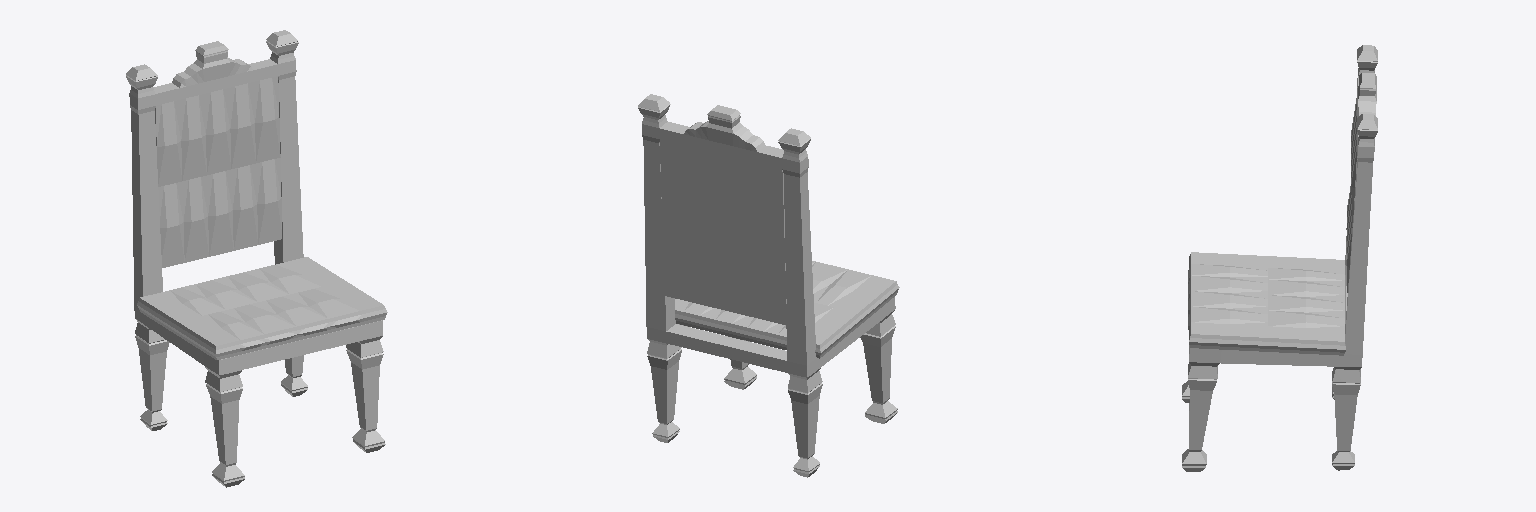
Rendered from trone.obj.
The picture shows the model from 3 angles: view 1: azimuth 30°, elevation 25°; view 2: azimuth 150°, elevation 25°; view 3: azimuth 270°, elevation 25°; orthographic projection.
Visible parts, largest first — view 1: Cube.001_Cube.005, Plane_Plane.001, Cube_Cube.003; view 2: Cube.001_Cube.005, Cube_Cube.003, Plane_Plane.001; view 3: Plane_Plane.001, Cube.001_Cube.005, Cube_Cube.003.
Part boxes in pixels (x1,y1,x2,y2): Cube.001_Cube.005: (153,30,385,452); Plane_Plane.001: (137,257,387,359); Cube_Cube.003: (126,64,244,487); Cube.001_Cube.005: (638,94,787,442); Cube_Cube.003: (778,128,897,477); Plane_Plane.001: (675,261,899,358); Plane_Plane.001: (1188,252,1345,355); Cube.001_Cube.005: (1182,73,1377,471); Cube_Cube.003: (1182,45,1377,402).
Size of the model in its own units: 1.13 by 2.25 by 1.12.